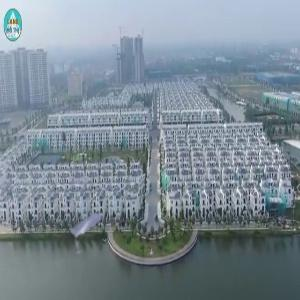drone: (45, 184, 133, 272)
